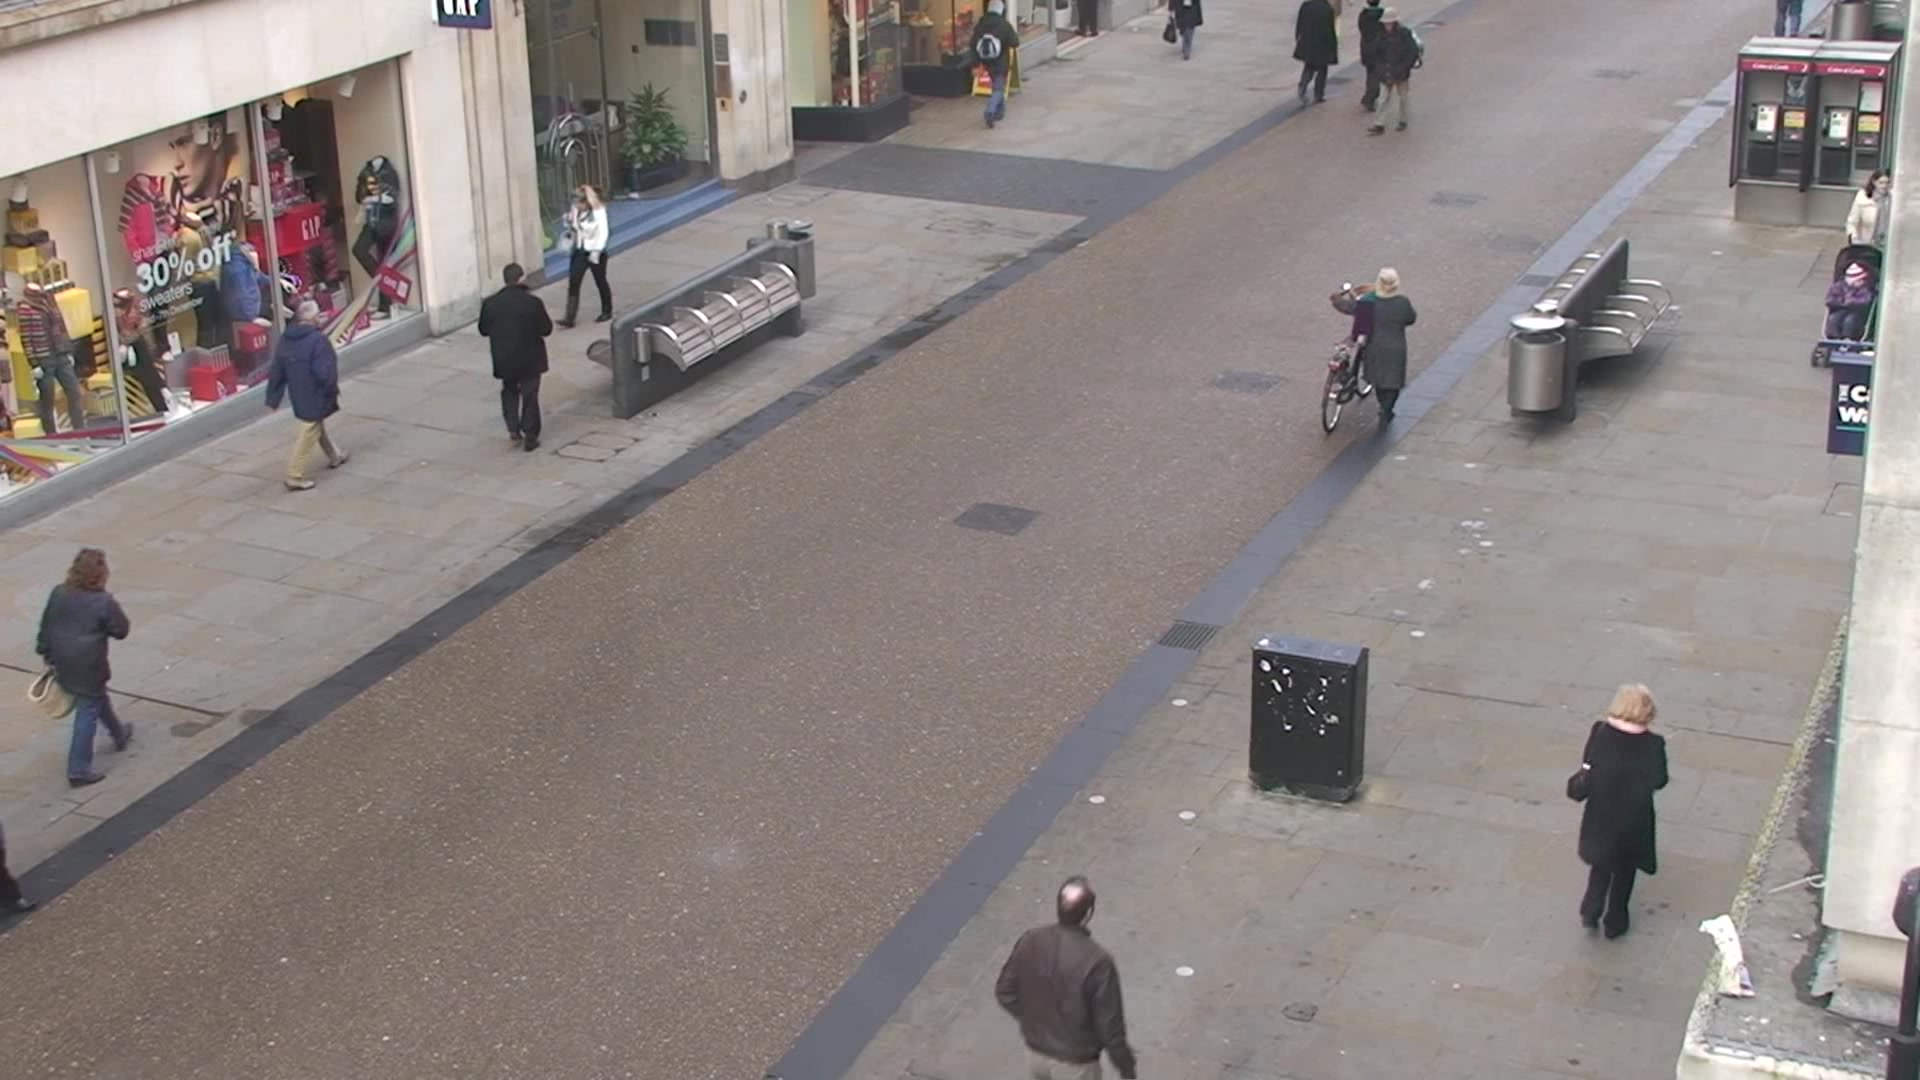person: (1566, 684, 1668, 942), (39, 547, 137, 789), (260, 298, 356, 494), (1329, 267, 1415, 433), (480, 265, 555, 454), (551, 180, 616, 331), (1366, 8, 1420, 139), (970, 1, 1021, 131)
